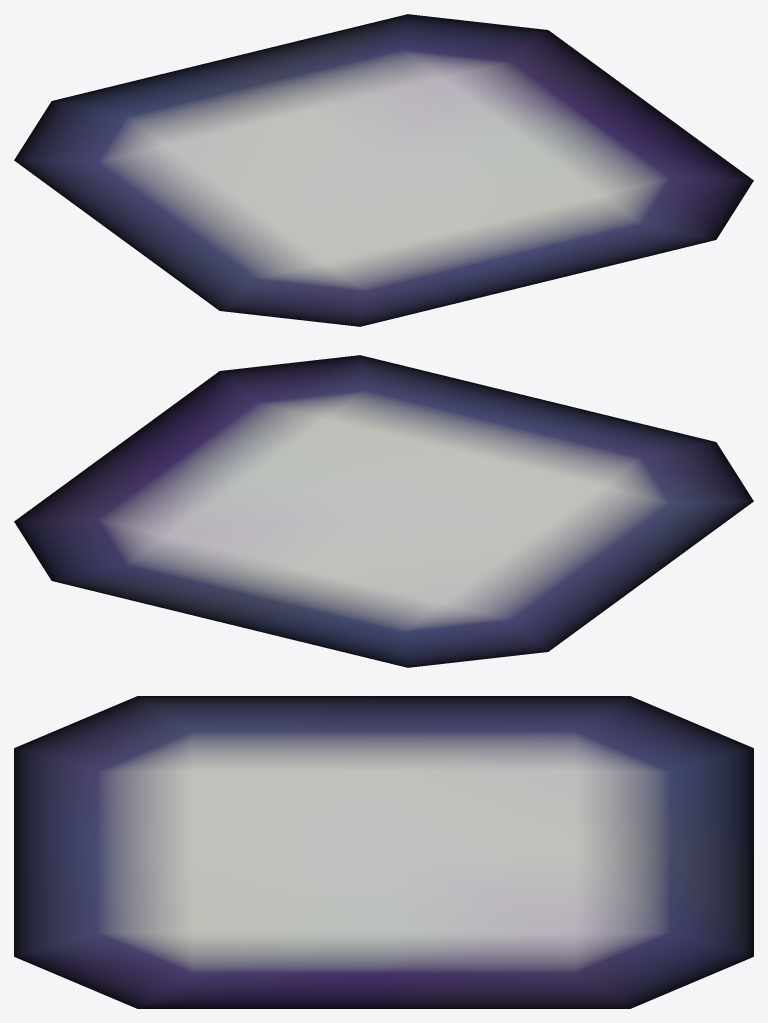
File: zyn_msh_edgeblurplane_01.fbx
3 views of the same model, one above another, from view 1: azimuth 30°, elevation 25°; view 2: azimuth 150°, elevation 25°; view 3: azimuth 270°, elevation 25° (orthographic). The views are drawn at different scales.
Visible parts, largest first — view 1: zyn_msh_edgeblurplane_01; view 2: zyn_msh_edgeblurplane_01; view 3: zyn_msh_edgeblurplane_01.
Boxes of the visible parts, x1,y1,x2,y2 form: zyn_msh_edgeblurplane_01: [14, 14, 753, 326]; zyn_msh_edgeblurplane_01: [14, 355, 753, 667]; zyn_msh_edgeblurplane_01: [14, 696, 753, 1008].
Bounding box in the file's own units: 4.92 × 4.92 × 0.
